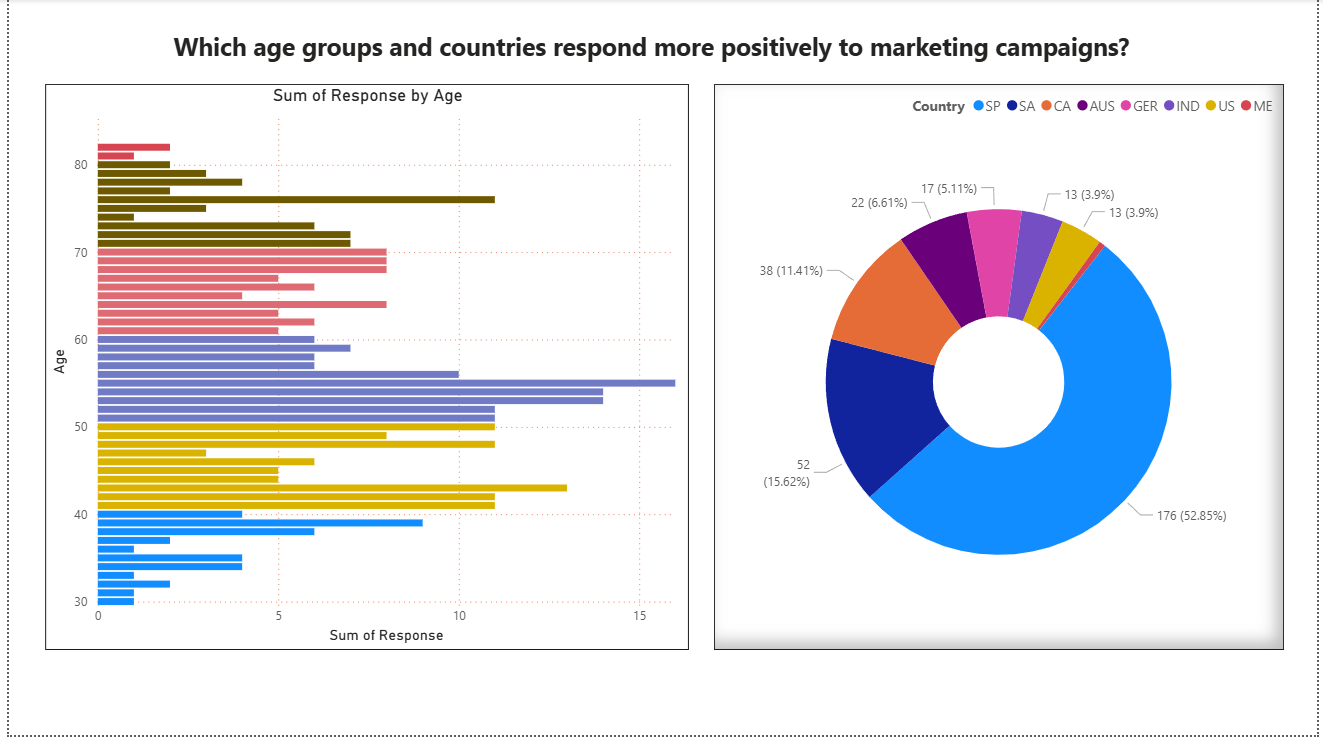

The dashboard page shown, as its layout file describes it:
{"tool":"powerbi","page":{"name":"Page 5","canvas":[1280,720],"ordinal":4},"visuals":[{"type":"textbox","box":[9.8,25.7,1237.5,57.5],"z":0},{"type":"clusteredBarChart","fields":{"Category":["marketing_data.Age"],"Y":["Sum(marketing_data.Response)"]},"box":[35.5,83.2,629.8,553.9],"z":1000},{"type":"pieChart","fields":{"Y":["Sum(marketing_data.Response)"],"Category":["marketing_data.Country"]},"box":[689.7,83.2,557.6,553.9],"z":2000}]}

Visuals, with their boxes in screenshot pixels (x1, y1, x2, y2), scaled from the page's 1280x720 canvas onto the 1323x739 screenshot:
textbox: (10,26,1289,85)
clusteredBarChart - marketing_data.Age x Sum(marketing_data.Response): (37,85,688,654)
pieChart - Sum(marketing_data.Response) x marketing_data.Country: (713,85,1289,654)
